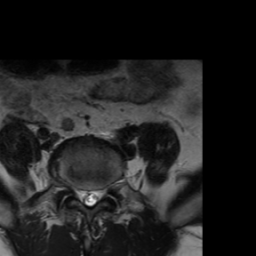CCS_stenosis: (85, 183, 93, 211)
LFS_normal: (102, 180, 110, 202)
LLS_normal: (93, 183, 101, 207)
RFS_stenosis: (68, 178, 77, 199)
RLS_normal: (77, 181, 85, 210)
